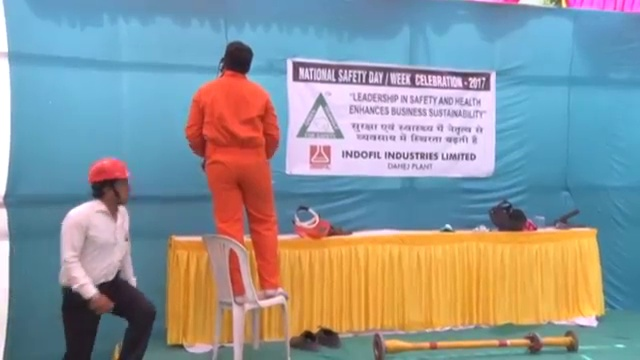helmet: (86, 156, 131, 182)
helmet_off: (216, 41, 254, 77)
helmet_on: (85, 154, 133, 210)
person: (184, 40, 297, 303), (55, 152, 157, 358)
